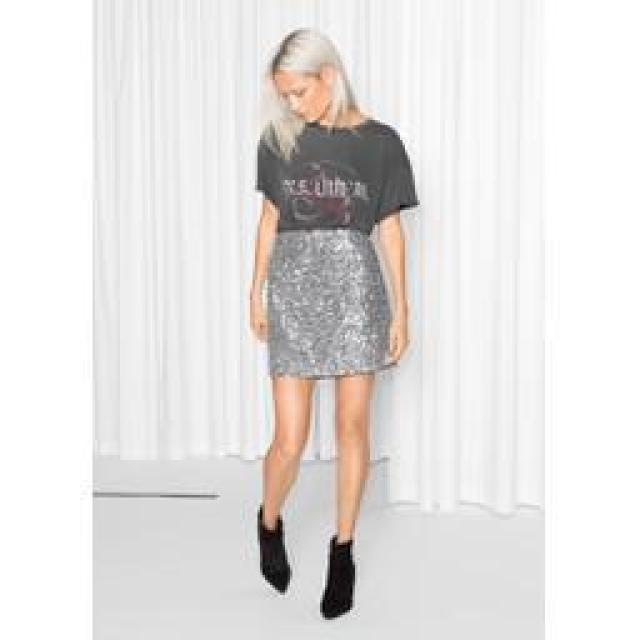Tshirt: (256, 110, 422, 235)
skirt: (260, 226, 400, 379)
